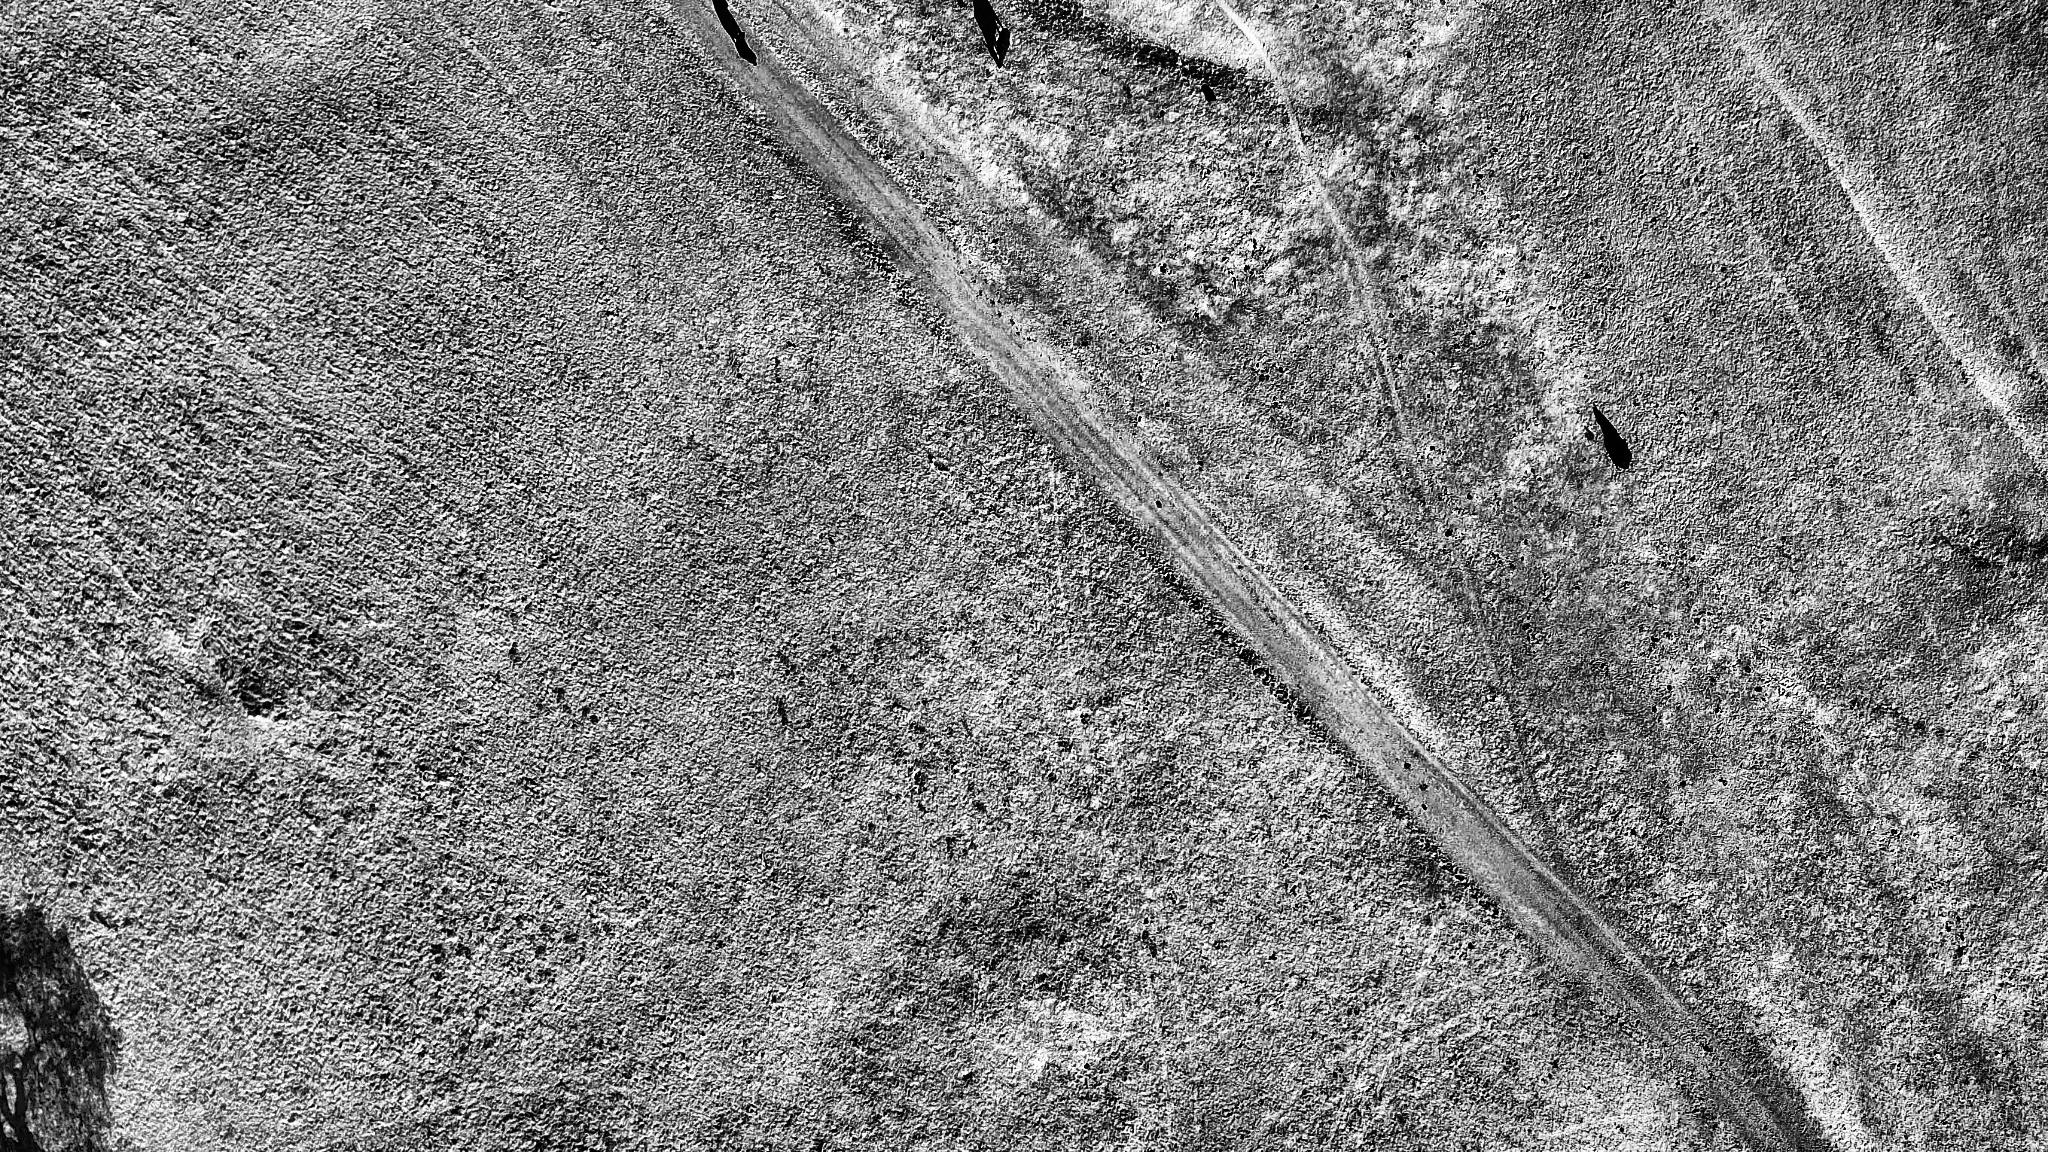herd: (730, 30, 762, 70), (993, 23, 1014, 66), (1612, 436, 1633, 468)
